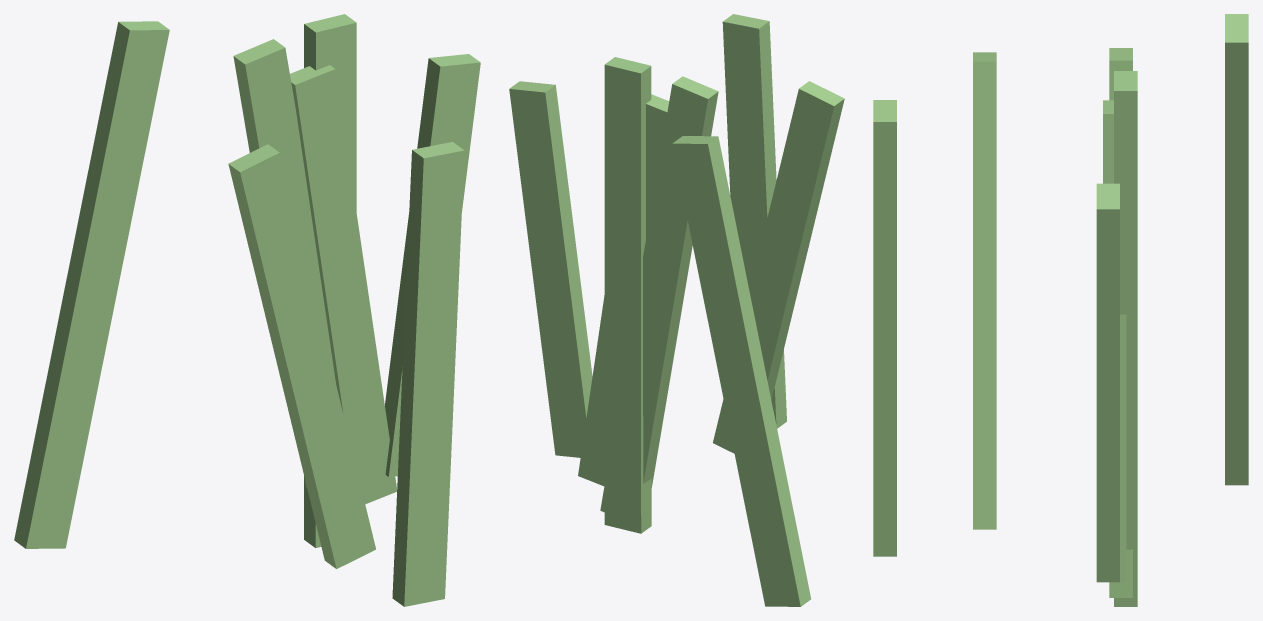
Rendered from grass_tuft.glb.
3 renders of one model, left to right at view 1: azimuth 30°, elevation 25°; view 2: azimuth 150°, elevation 25°; view 3: azimuth 270°, elevation 25°, orthographic. The views are drawn at different scales.
Parts seen in each view (by area): view 1: grass_tuft; view 2: grass_tuft; view 3: grass_tuft.
Part boxes in pixels (<box>): grass_tuft: <box>14,14,480,606</box>; grass_tuft: <box>509,14,844,606</box>; grass_tuft: <box>873,14,1248,606</box>.
Size of the model in its own units: 0.383 by 0.483 by 0.3181.
